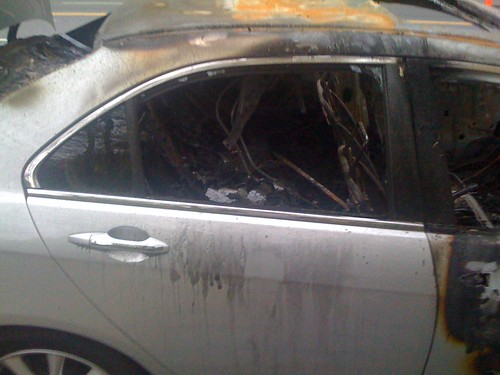car: (3, 1, 500, 368)
